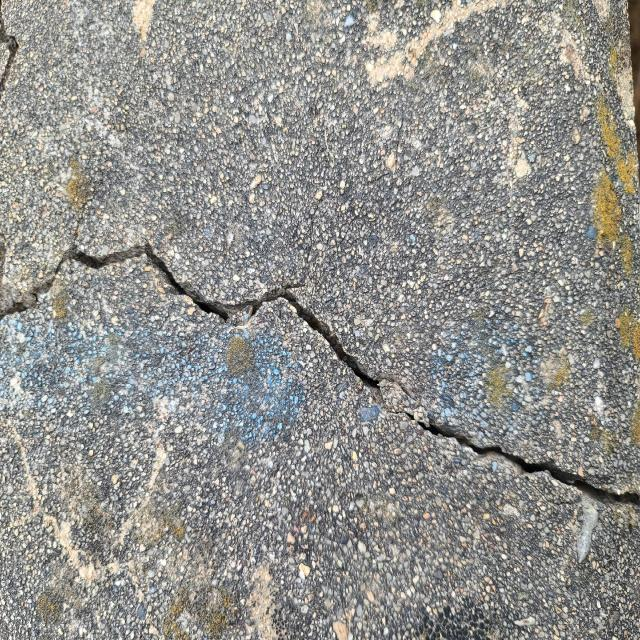SurfaceCrack: (0, 213, 639, 584)
